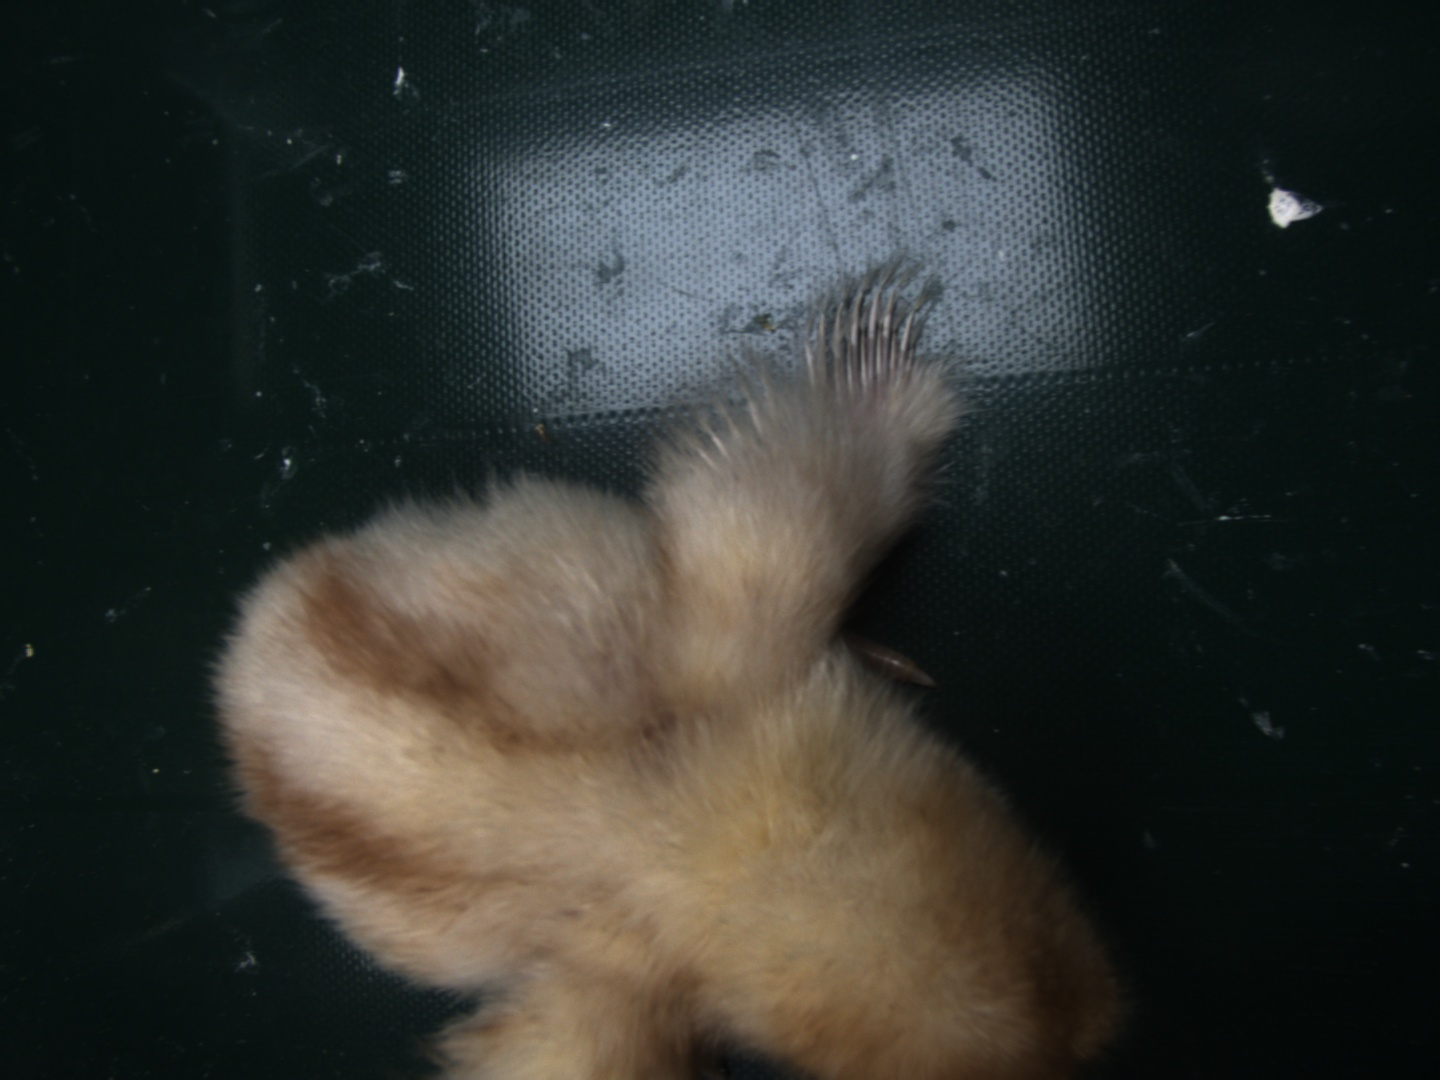female: (804, 284, 924, 397)
